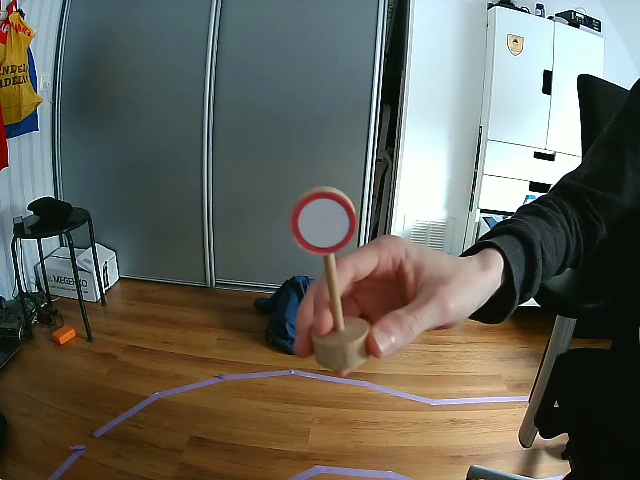wegdicht: (294, 192, 359, 258)
